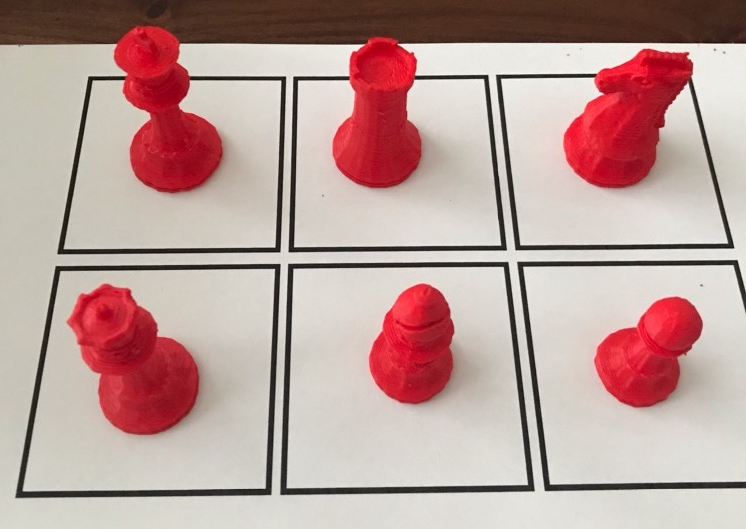Red Bishop: (360, 273, 465, 417)
Red Castle: (321, 32, 434, 193)
Red King: (105, 18, 234, 198)
Red Knight: (554, 46, 697, 203)
Red Pawn: (586, 291, 706, 416)
Red Queen: (60, 276, 209, 443)
